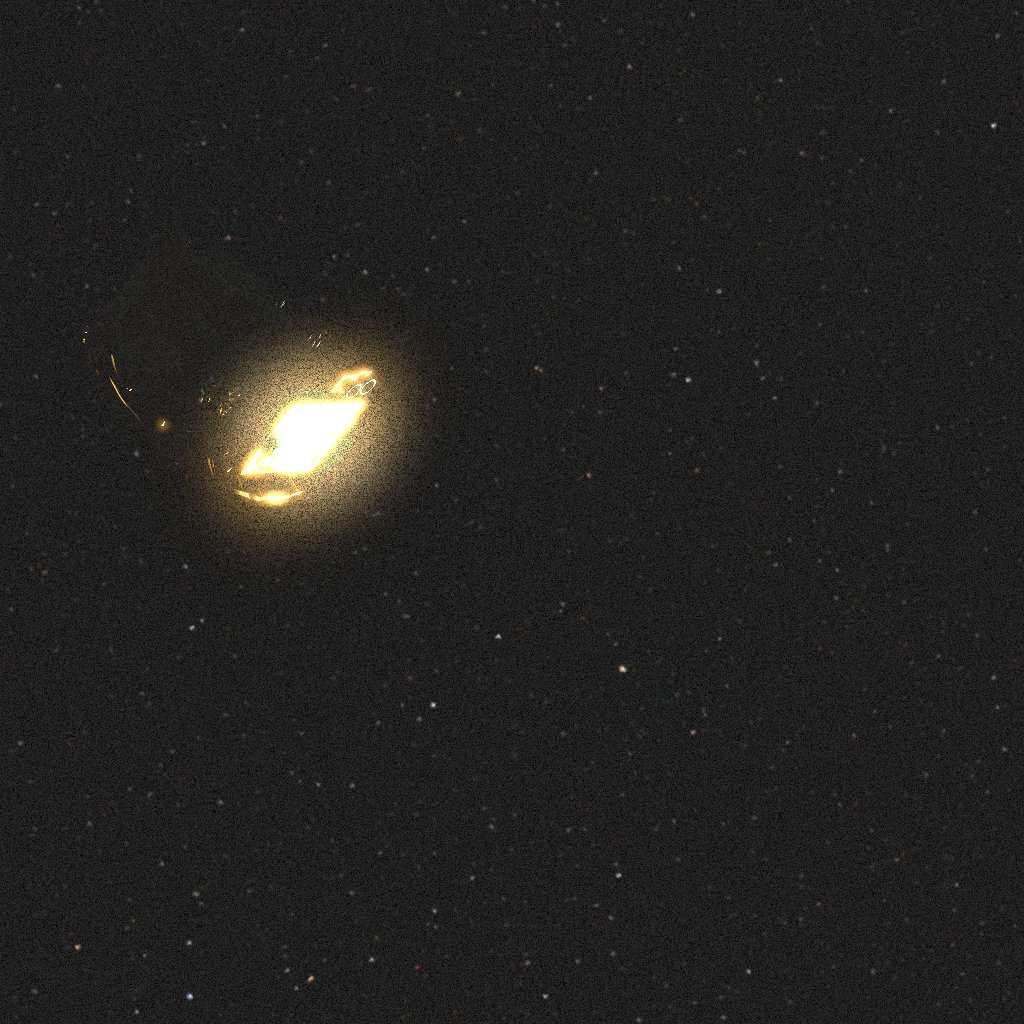lisa_pathfinder: (82, 232, 376, 502)
